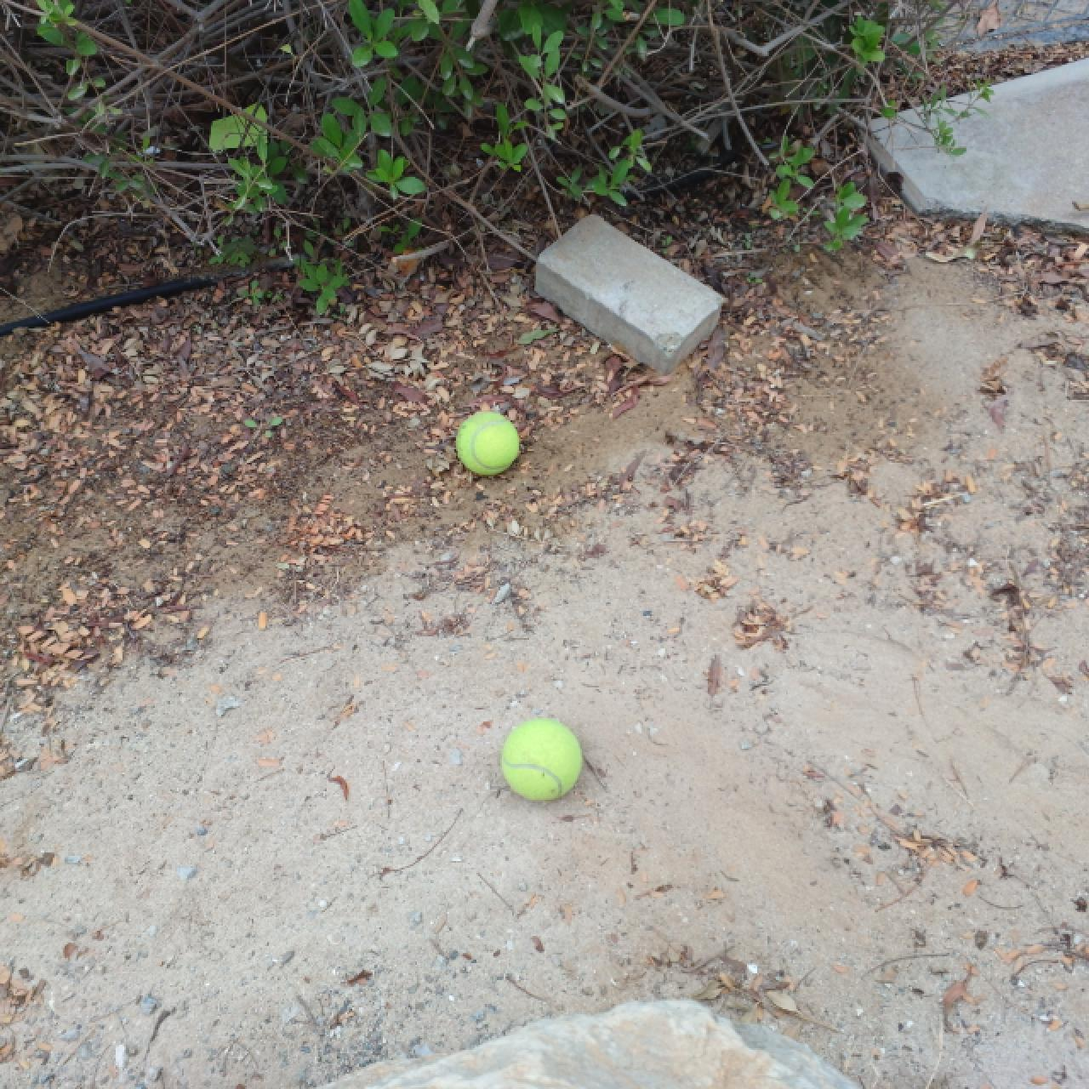tennis-ball: (498, 713, 585, 803), (455, 408, 521, 476)
